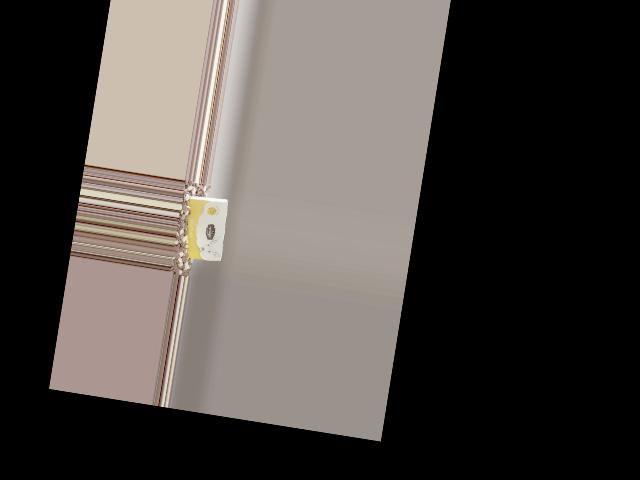chocolate: (177, 190, 233, 267)
